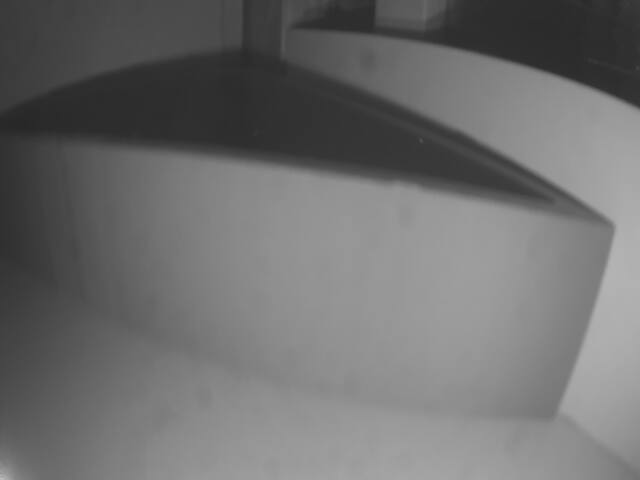Point: (0, 100, 618, 416)
